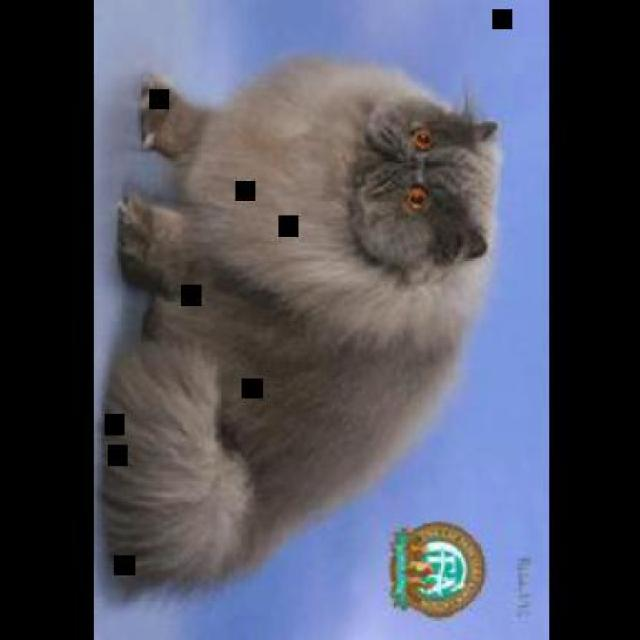unauthorized: (100, 54, 502, 606)
